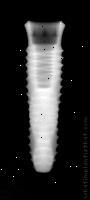Cowellmedi: (19, 21, 66, 174)
